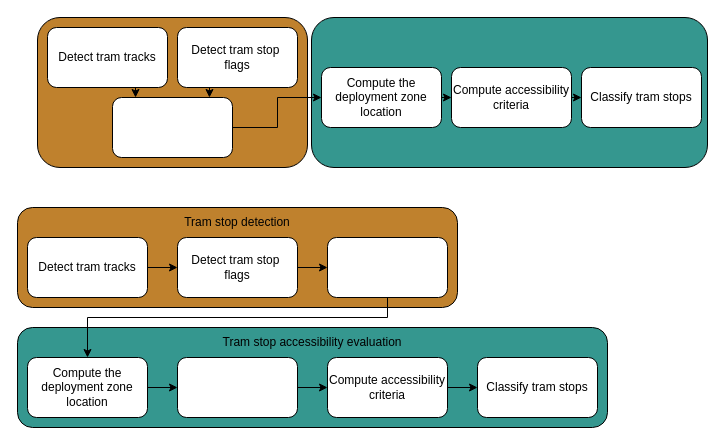
This 725x445 diagram has some shape labels left out. Each missing label, with the box of its shape:
Determine final tram stop locations: (112, 96, 232, 158)
Determine tram stop locations: (326, 236, 448, 298)
Determine tram stop type: (176, 356, 298, 418)
